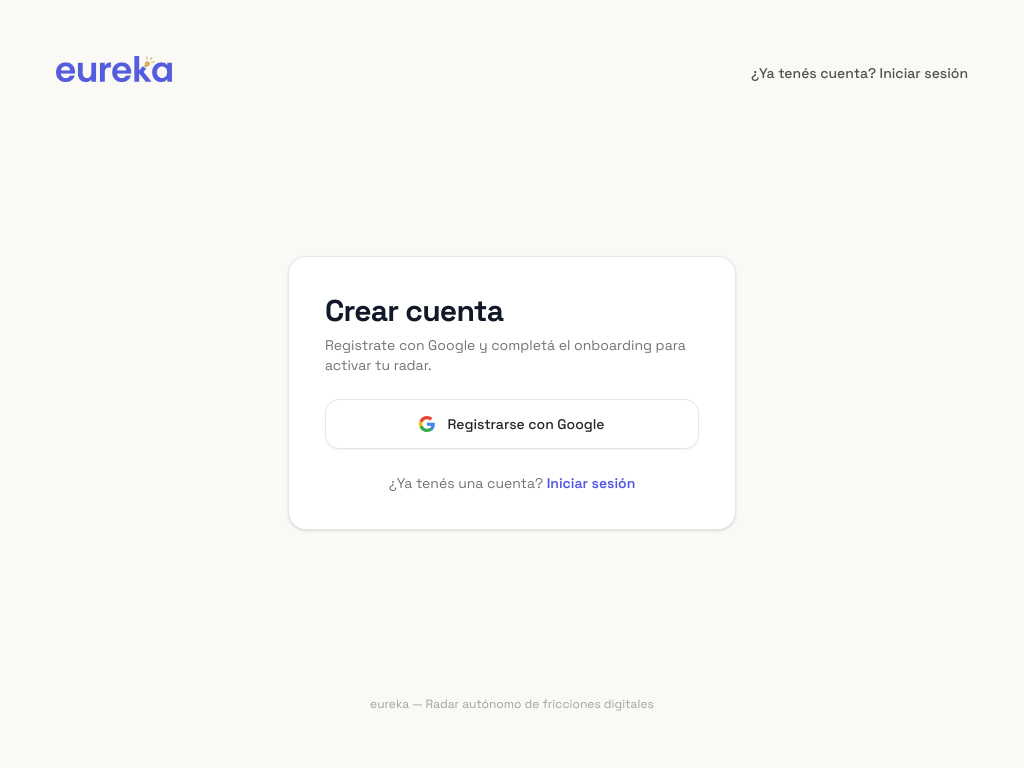
Test: RegistroPage › muestra error cuando falla el registro con Google
Click the button "Registrarse con Google". click: click(512, 424)
box: [325,398,699,448]
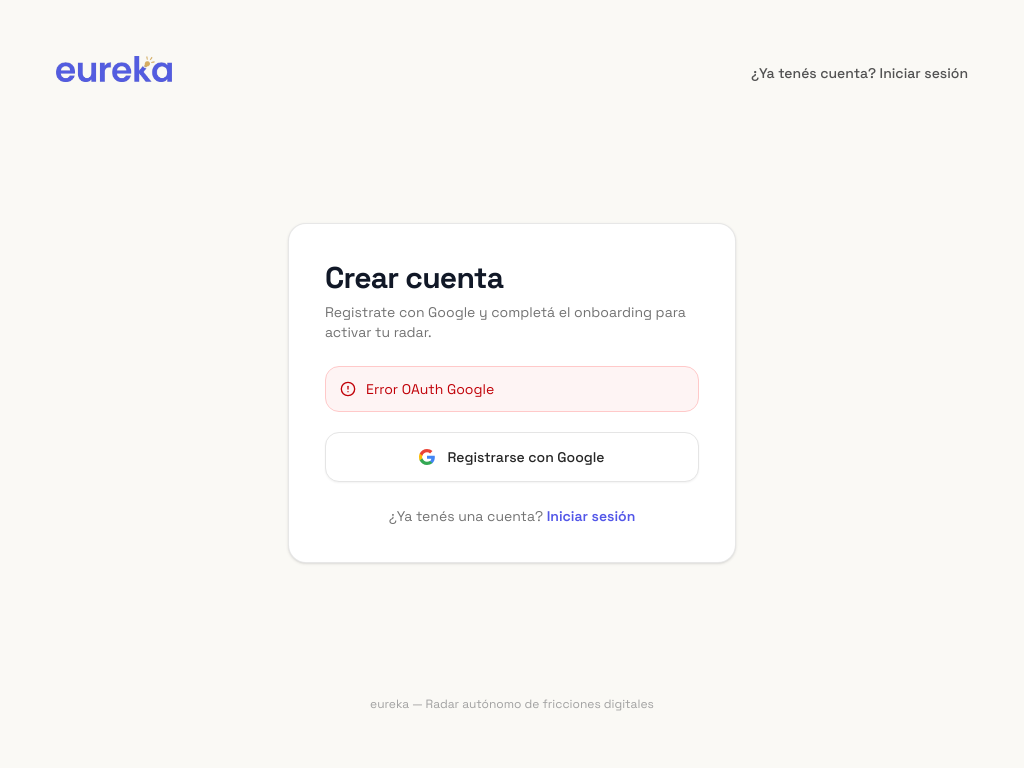
Now the message reads "Error OAuth Google", box [366,380,494,398]
